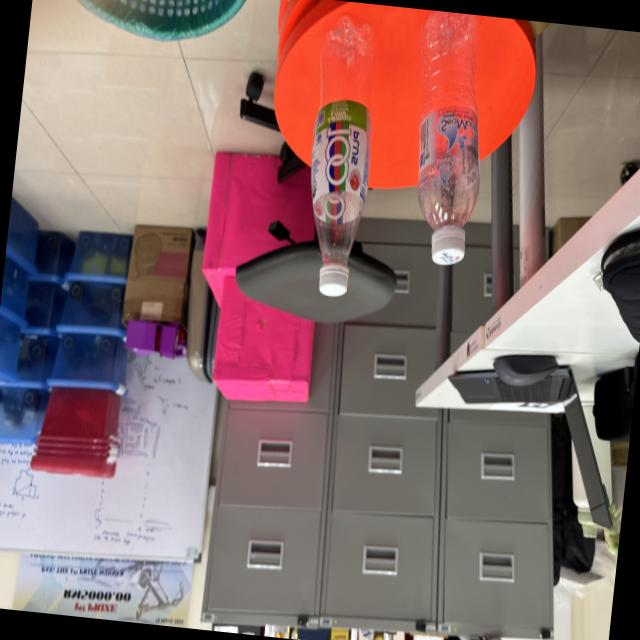plastic_bottle: (287, 12, 395, 310), (390, 8, 498, 280)
